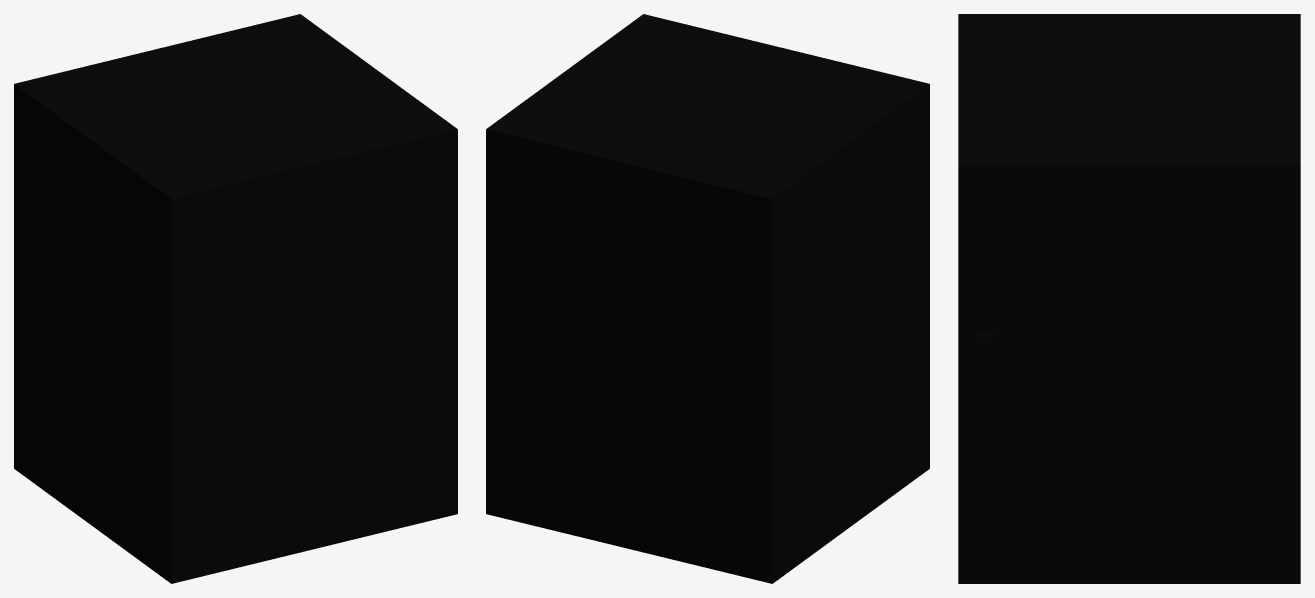
Rendered from FreeStandingKitchenCupboardB.fbx.
The picture shows the model from 3 angles, left to right: view 1: azimuth 30°, elevation 25°; view 2: azimuth 150°, elevation 25°; view 3: azimuth 270°, elevation 25°; orthographic projection. The views are drawn at different scales.
Parts seen in each view (by area): view 1: node_id5; view 2: node_id5; view 3: node_id5.
Part boxes in pixels (bbox=[...]): node_id5: bbox=[14, 14, 457, 583]; node_id5: bbox=[486, 14, 929, 583]; node_id5: bbox=[958, 14, 1300, 583].
Size of the model in its own units: 0.4084 by 0.512 by 0.3796.
Materials: 1 (1 with a texture image).
